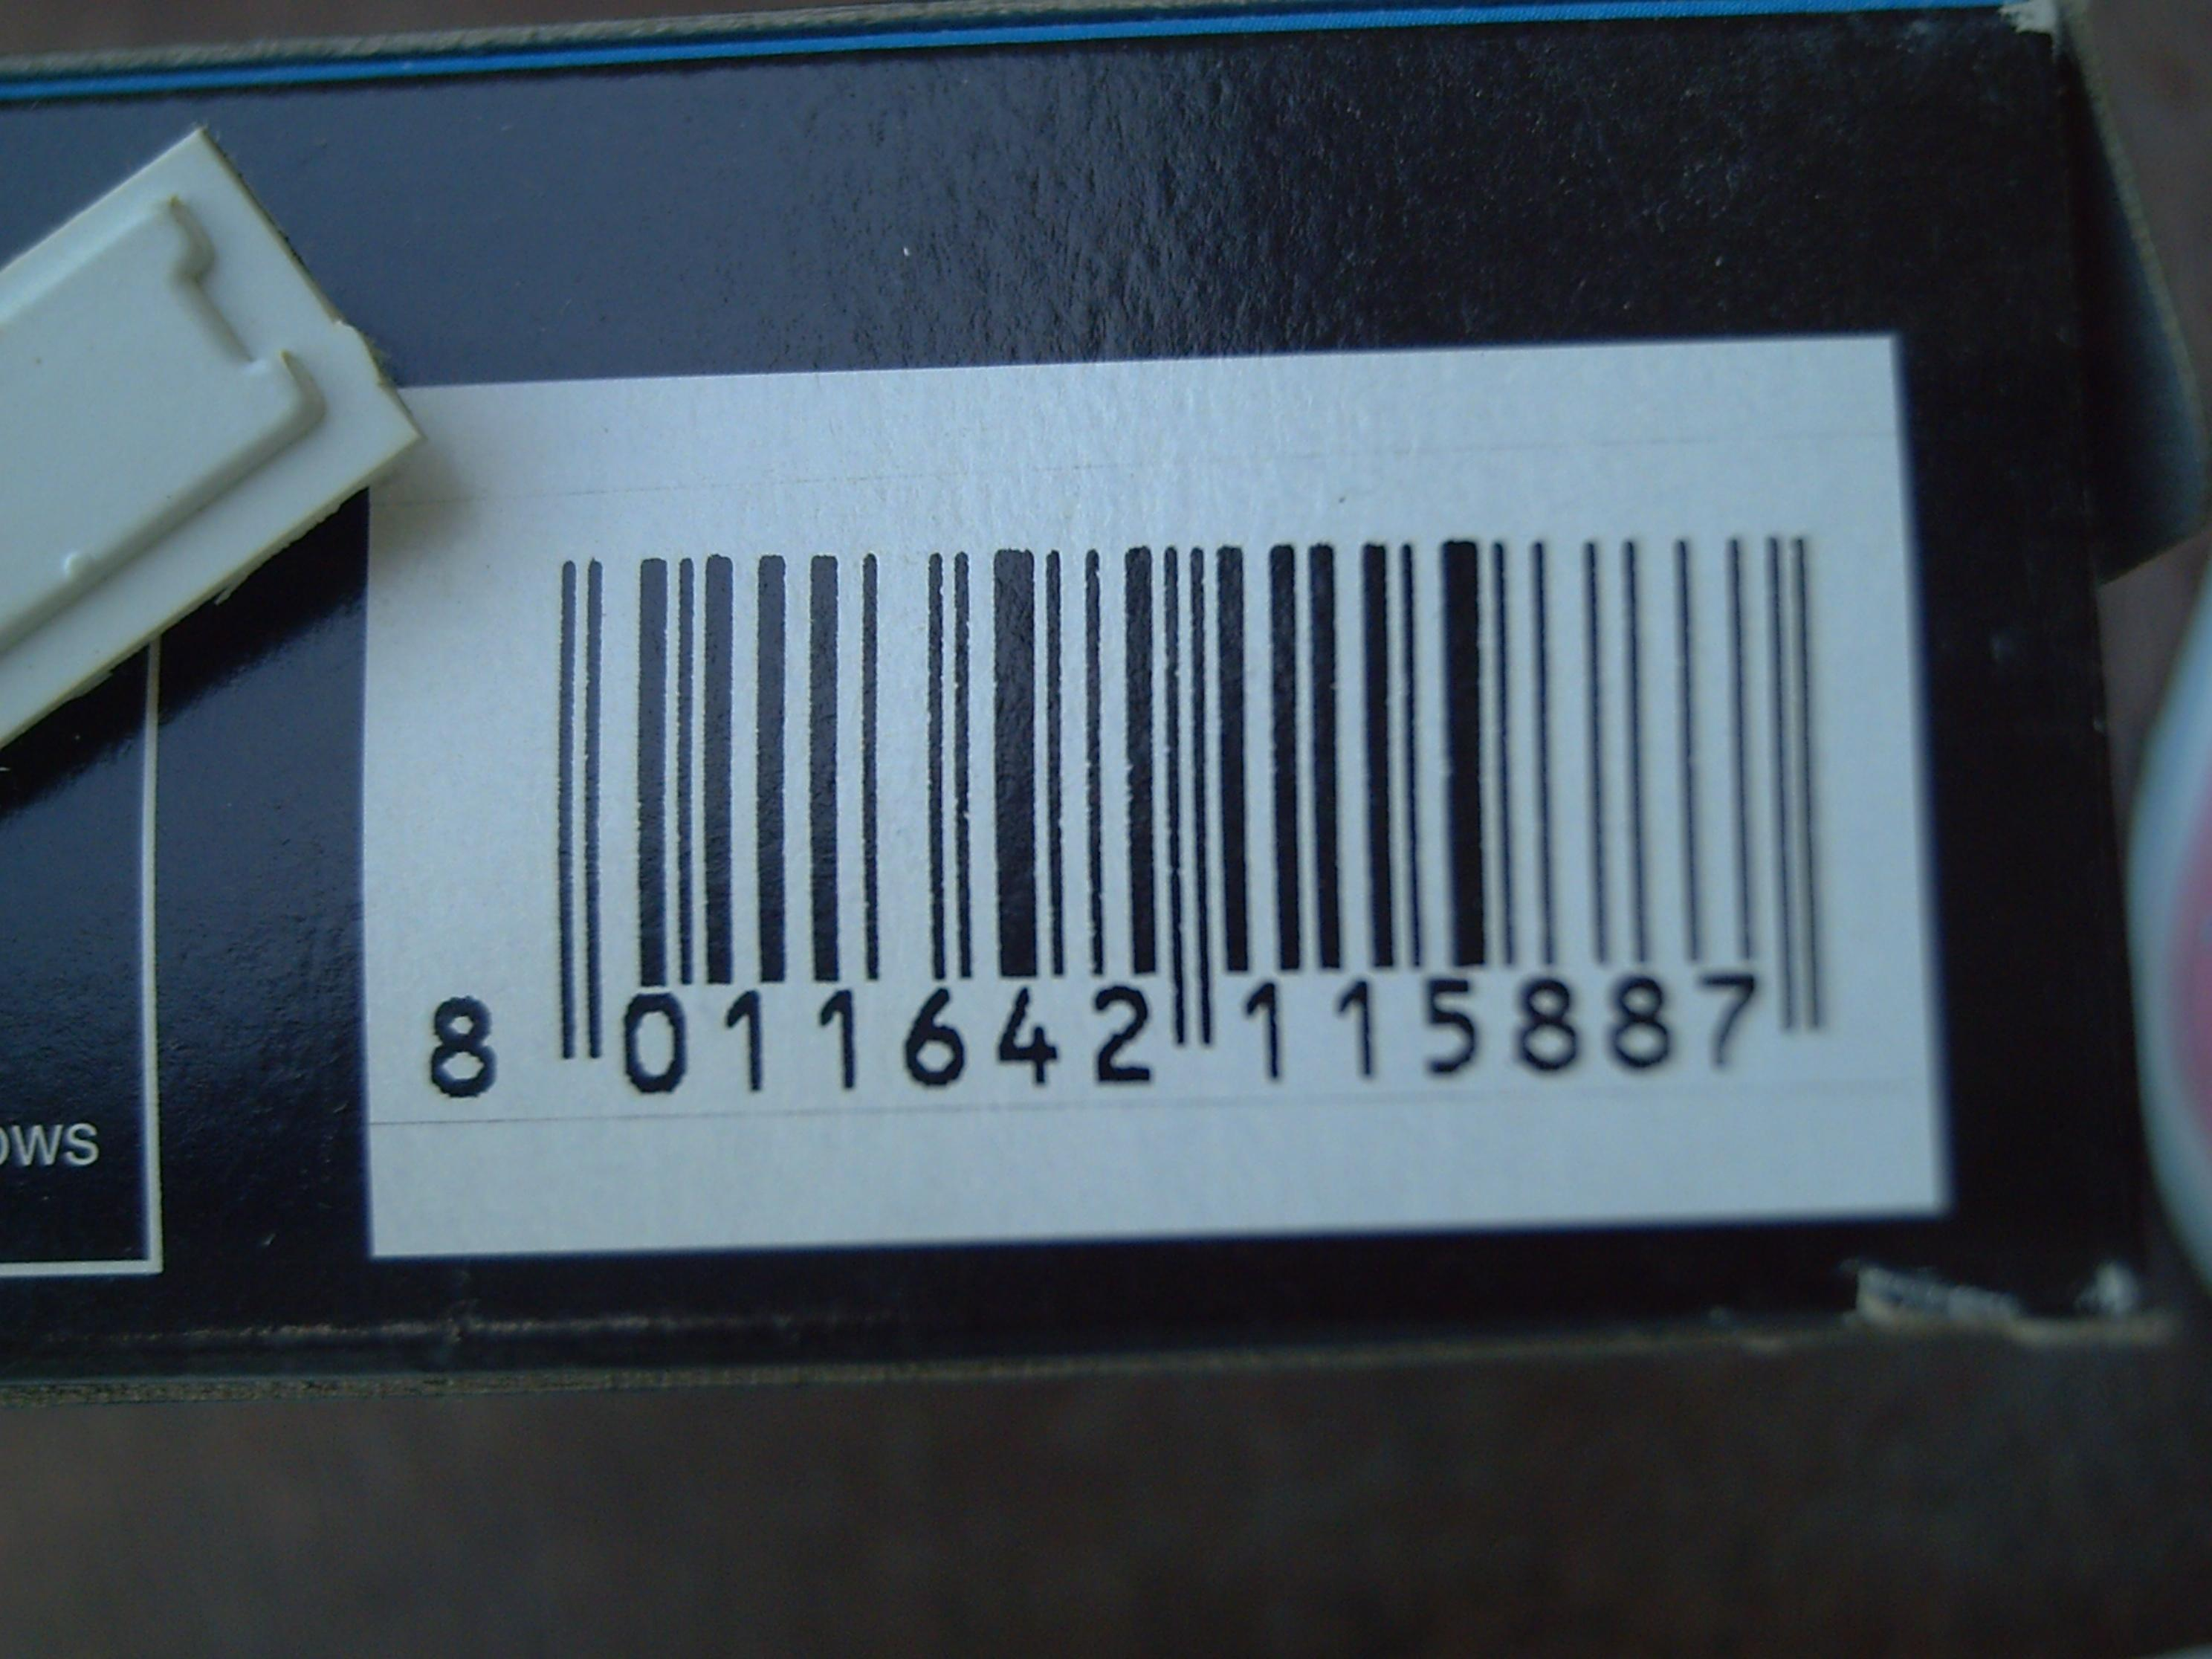barcode: (373, 430, 1932, 1122)
